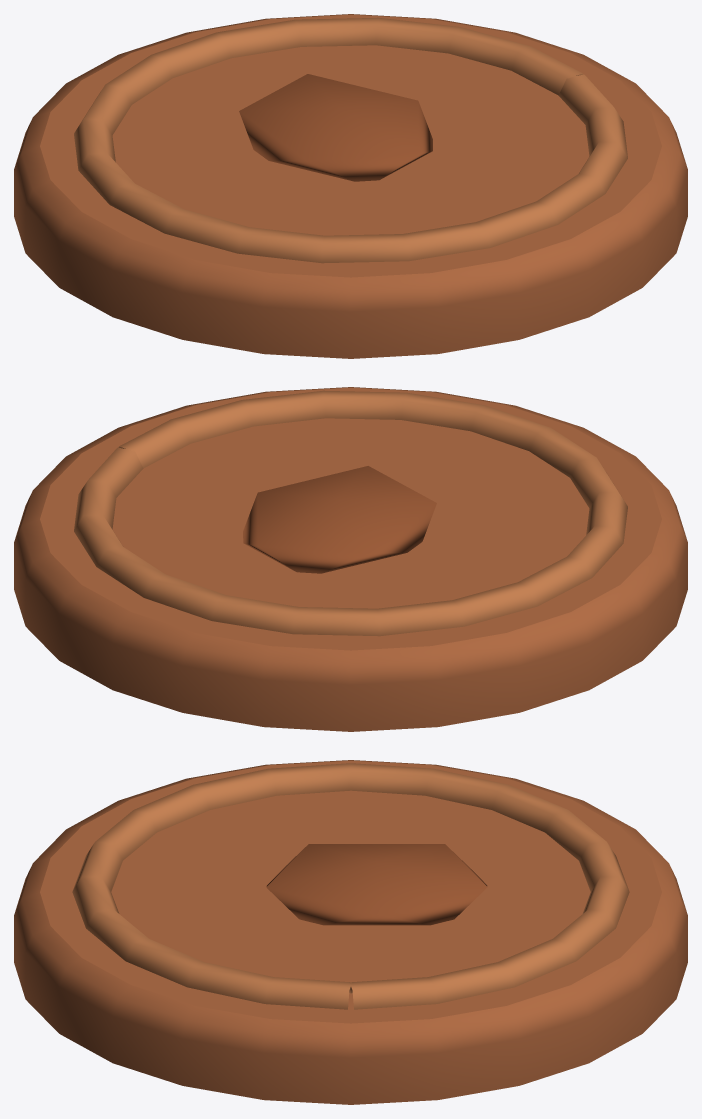
File: item_ic_luckypenny.glb
The picture shows the model from 3 angles, top to bottom: view 1: azimuth 30°, elevation 25°; view 2: azimuth 150°, elevation 25°; view 3: azimuth 270°, elevation 25°; orthographic projection.
Visible parts, largest first — view 1: item_ic_luckypenny_gloss; view 2: item_ic_luckypenny_gloss; view 3: item_ic_luckypenny_gloss.
Boxes of the visible parts, x1,y1,x2,y2 form: item_ic_luckypenny_gloss: (14,14,687,358); item_ic_luckypenny_gloss: (14,387,687,731); item_ic_luckypenny_gloss: (14,760,687,1104).
Bounding box in the file's own units: 0.104 × 0.017 × 0.104.
